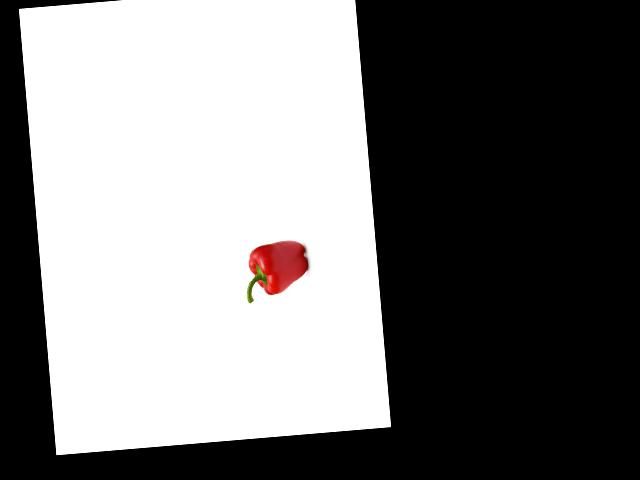bell_pepper: (238, 235, 315, 305)
